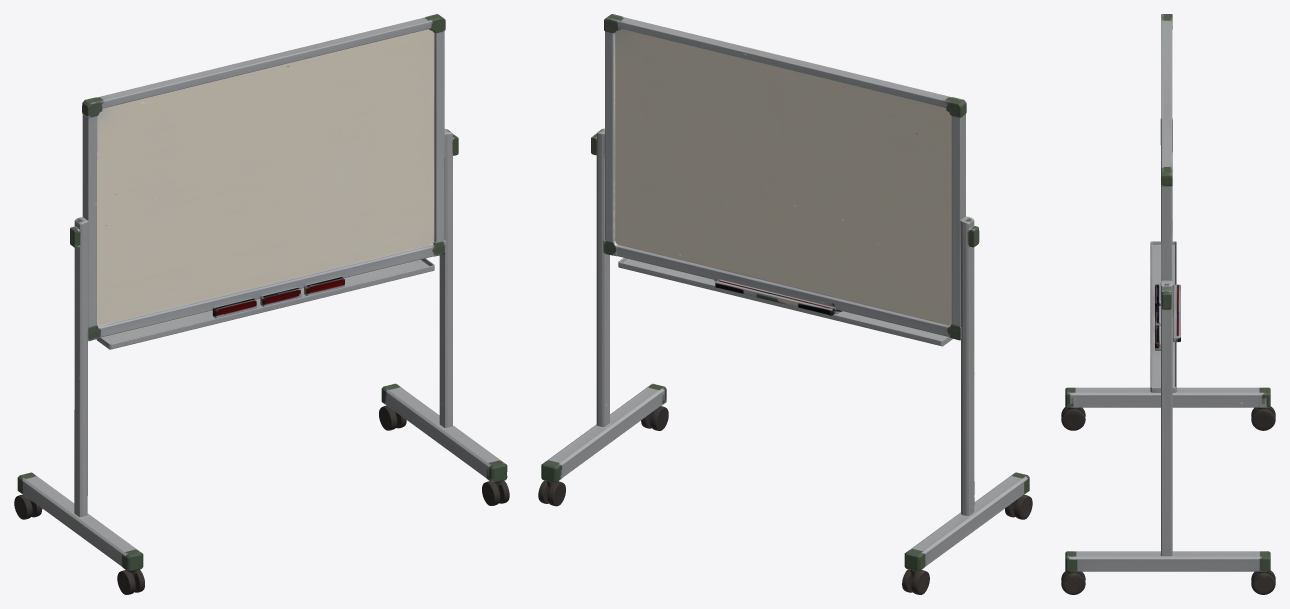
The model's file is whiteboard_stand__hunyuan.glb.
3 renders of one model, left to right at view 1: azimuth 30°, elevation 25°; view 2: azimuth 150°, elevation 25°; view 3: azimuth 270°, elevation 25°, orthographic. The views are drawn at different scales.
Parts seen in each view (by area): view 1: material; view 2: material; view 3: material.
Part boxes in pixels (<box>): material: <box>14,14,509,594</box>; material: <box>538,14,1032,594</box>; material: <box>1061,14,1275,594</box>.
Size of the model in its own units: 0.7634 by 0.8571 by 0.3995.
Materials: 1 (1 with a texture image).
